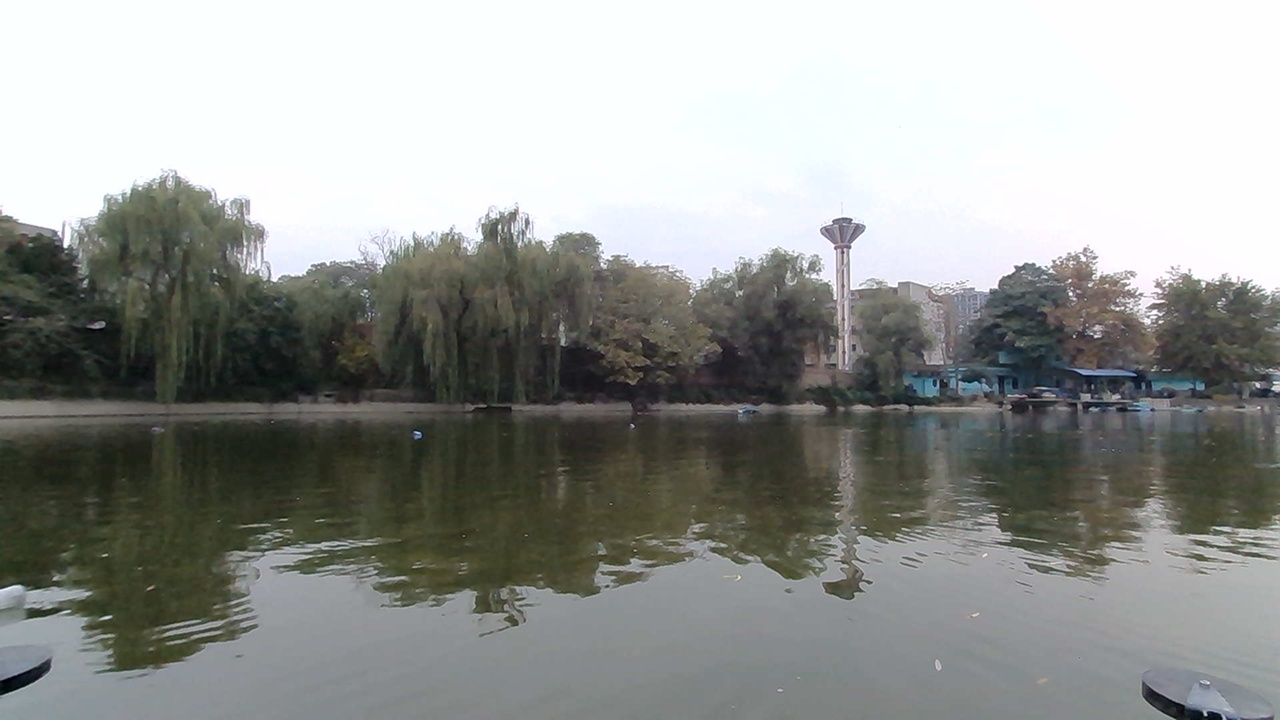bottle: (397, 422, 428, 440)
